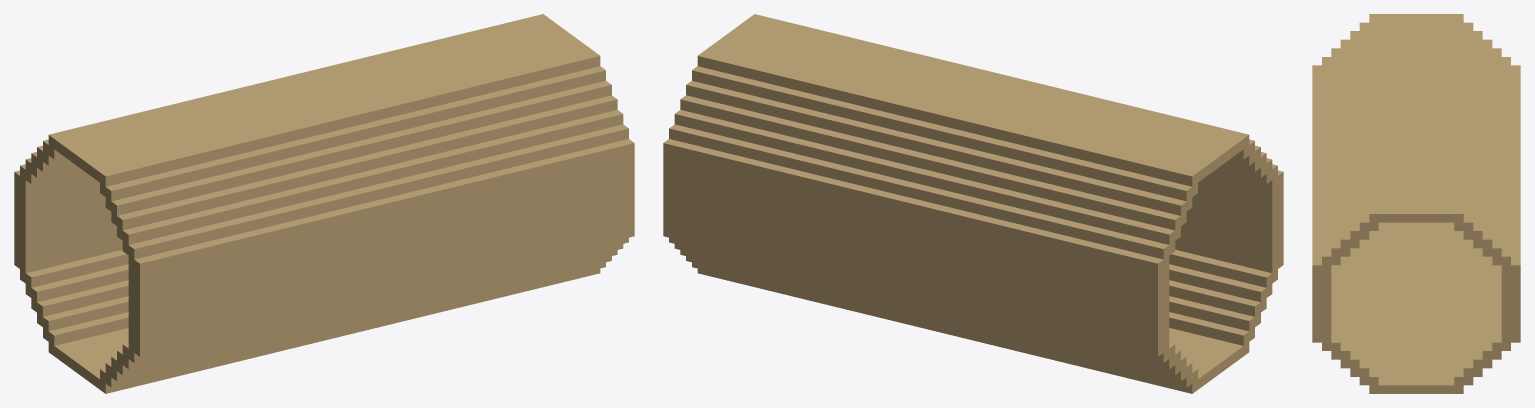
The model's file is cardboard_roll.glb.
3 renders of one model, left to right at view 1: azimuth 30°, elevation 25°; view 2: azimuth 150°, elevation 25°; view 3: azimuth 270°, elevation 25°, orthographic. The views are drawn at different scales.
Parts seen in each view (by area): view 1: cardboard_roll:compound; view 2: cardboard_roll:compound; view 3: cardboard_roll:compound.
Part boxes in pixels (x1,y1,x2,y2): cardboard_roll:compound: [14, 14, 634, 393]; cardboard_roll:compound: [663, 14, 1283, 393]; cardboard_roll:compound: [1312, 14, 1520, 393].
Bounding box in the file's own units: 0.1 × 0.042 × 0.044.
